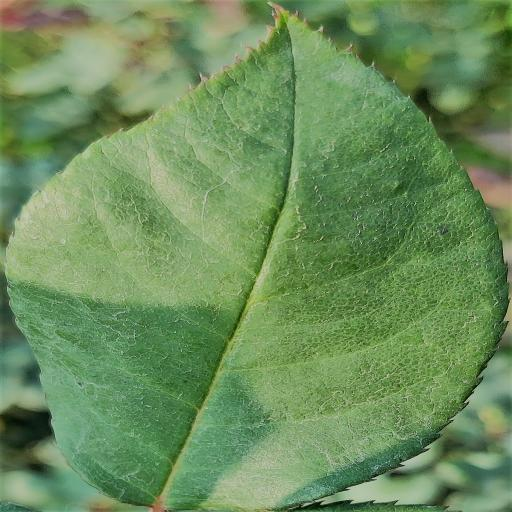healthy_leaf: (6, 5, 507, 512)
